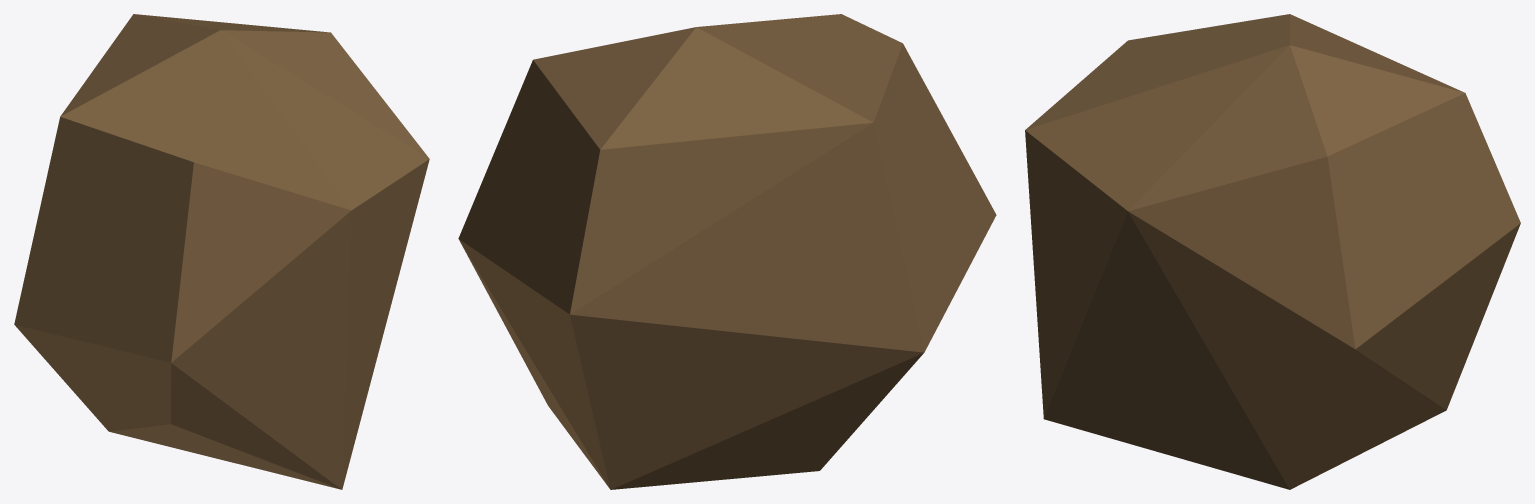
File: Rock-A03.fbx
The picture shows the model from 3 angles, left to right: view 1: azimuth 30°, elevation 25°; view 2: azimuth 150°, elevation 25°; view 3: azimuth 270°, elevation 25°; orthographic projection. The views are drawn at different scales.
Visible parts, largest first — view 1: Rock-A03; view 2: Rock-A03; view 3: Rock-A03.
Part boxes in pixels (box(x1,y1,x2,y2)): Rock-A03: box(14, 14, 429, 489); Rock-A03: box(458, 14, 996, 489); Rock-A03: box(1025, 14, 1520, 489).
Bounding box in the file's own units: 52.8 × 48.66 × 57.74.
